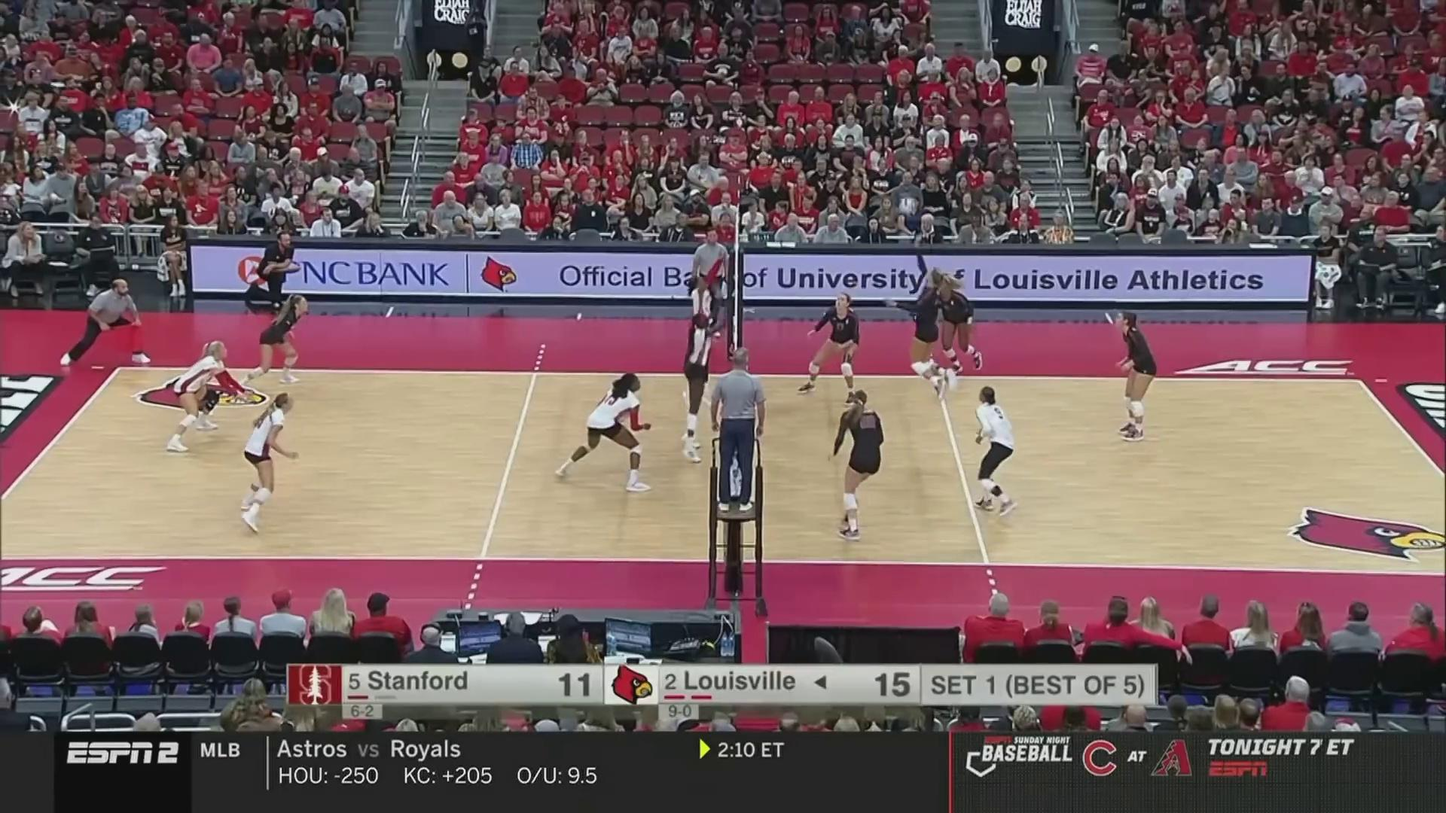player: (559, 376, 660, 492), (164, 342, 248, 452), (238, 393, 304, 531), (829, 394, 884, 542), (905, 269, 957, 401), (1108, 314, 1159, 442), (241, 292, 307, 390), (965, 390, 1017, 513), (800, 293, 863, 394), (683, 315, 721, 460), (934, 274, 983, 372), (687, 276, 719, 408)
refree: (51, 278, 148, 368), (712, 352, 761, 507), (695, 226, 732, 343)
